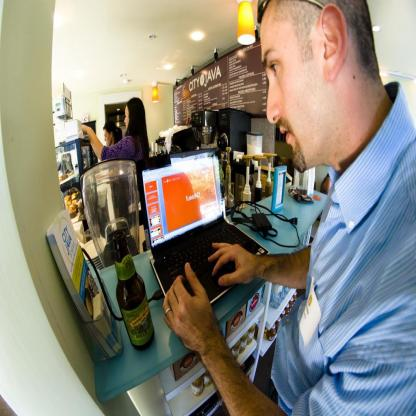board: (138, 148, 269, 305), (113, 235, 154, 350)
